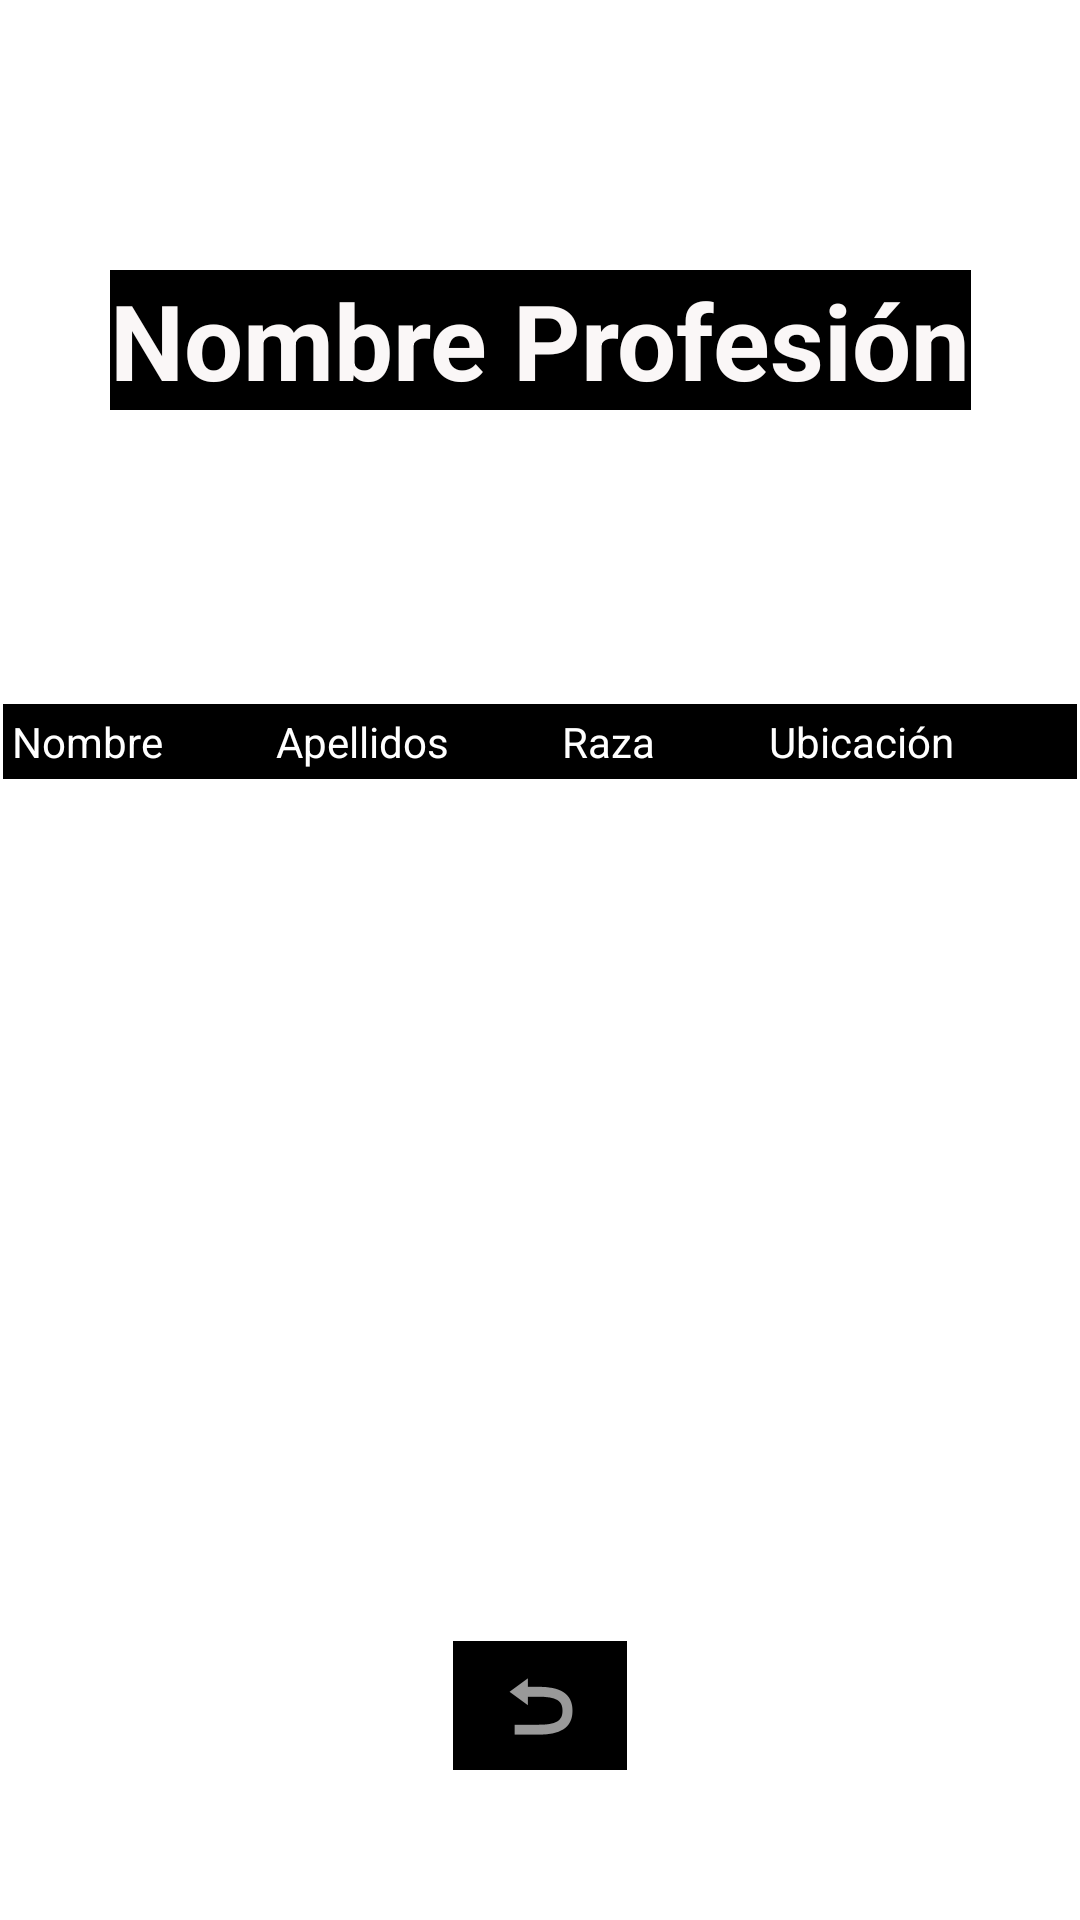

Where icons sit on this 1080px×1920px app screen, as [x1,y1,x2,y2]:
revert: [453,1641,627,1770]
